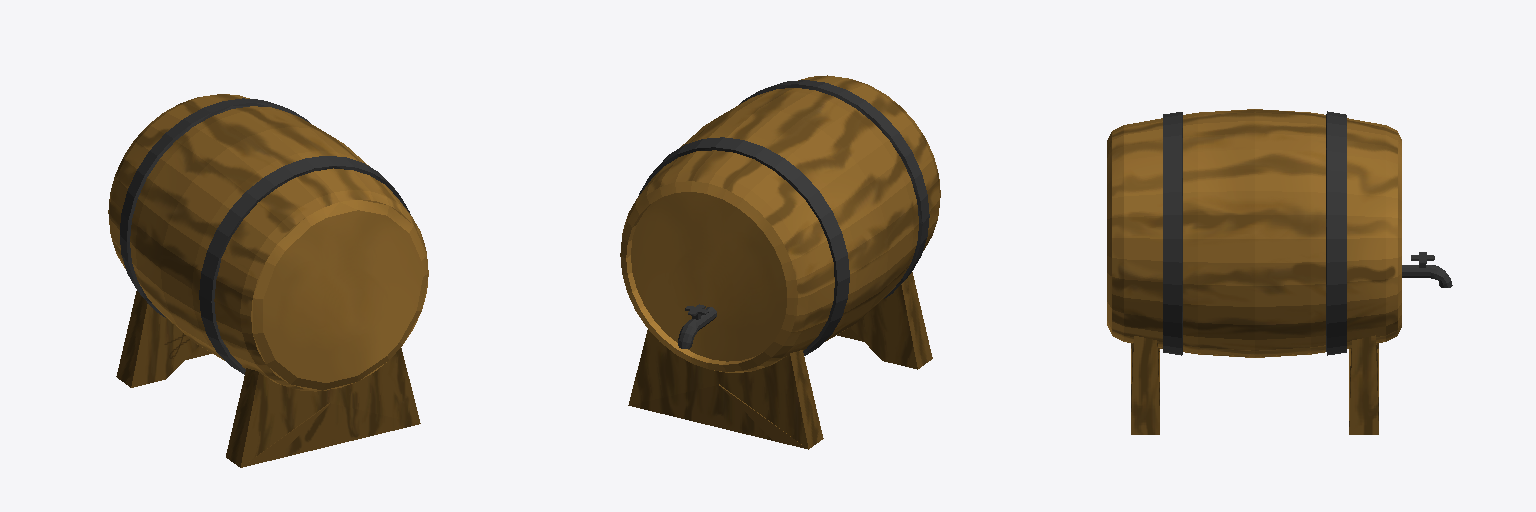
3 renders of one model, left to right at view 1: azimuth 30°, elevation 25°; view 2: azimuth 150°, elevation 25°; view 3: azimuth 270°, elevation 25°, orthographic.
Visible parts, largest first — view 1: Cylinder; view 2: Cylinder; view 3: Cylinder.
Boxes of the visible parts, x1=… form: Cylinder: x1=108, y1=94, x2=428, y2=467; Cylinder: x1=620, y1=75, x2=940, y2=449; Cylinder: x1=1107, y1=109, x2=1452, y2=434.
Bounding box in the file's own units: 3.69 × 4.42 × 5.11.
Materials: 2 (1 with a texture image).